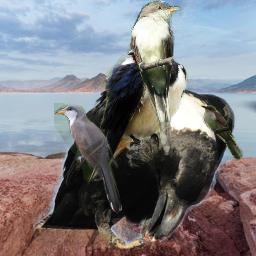Crow: (33, 73, 238, 255)
Cuckoo: (131, 0, 182, 156), (54, 103, 124, 214), (200, 104, 243, 161)
Swallow: (76, 28, 188, 186)
